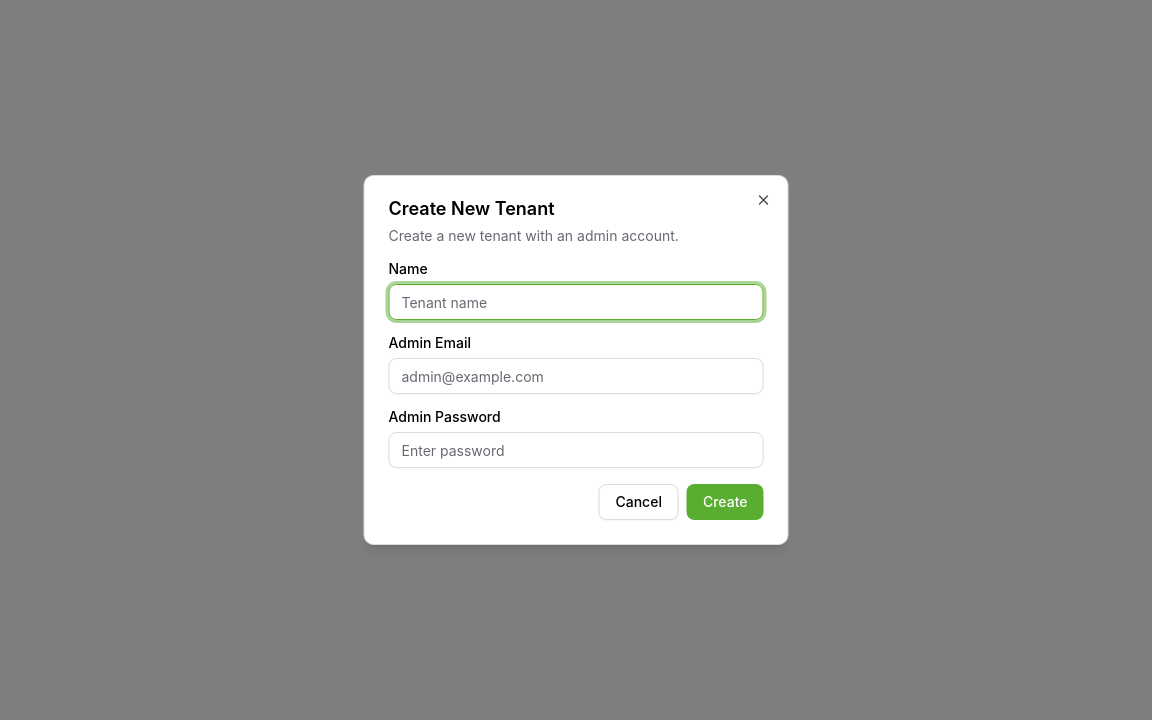
Test: TenantForm › should validate password length
This screenshot has width=1152, height=720.
Fill form with short password
Type "Test Tenant" into the field with test id "field-name" at point(576, 302), box [388,284,764,320]
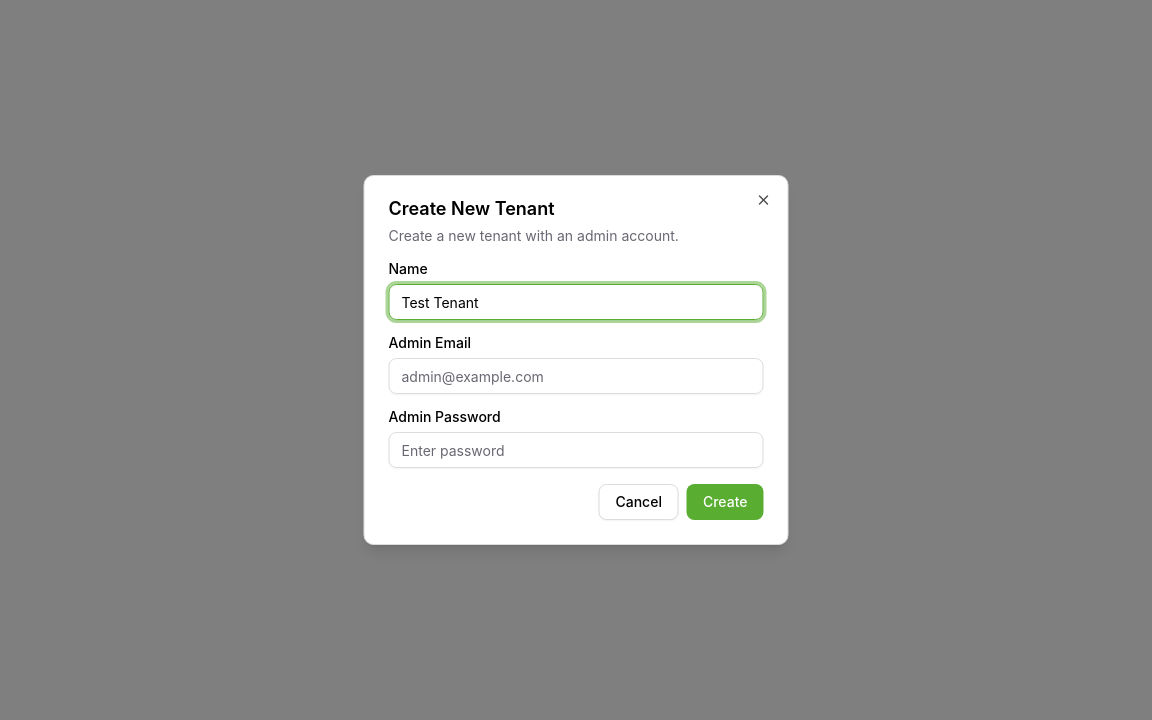
Type "admin@test.com" into the field with test id "field-adminEmailAddress" at point(576, 376), box [388,358,764,394]
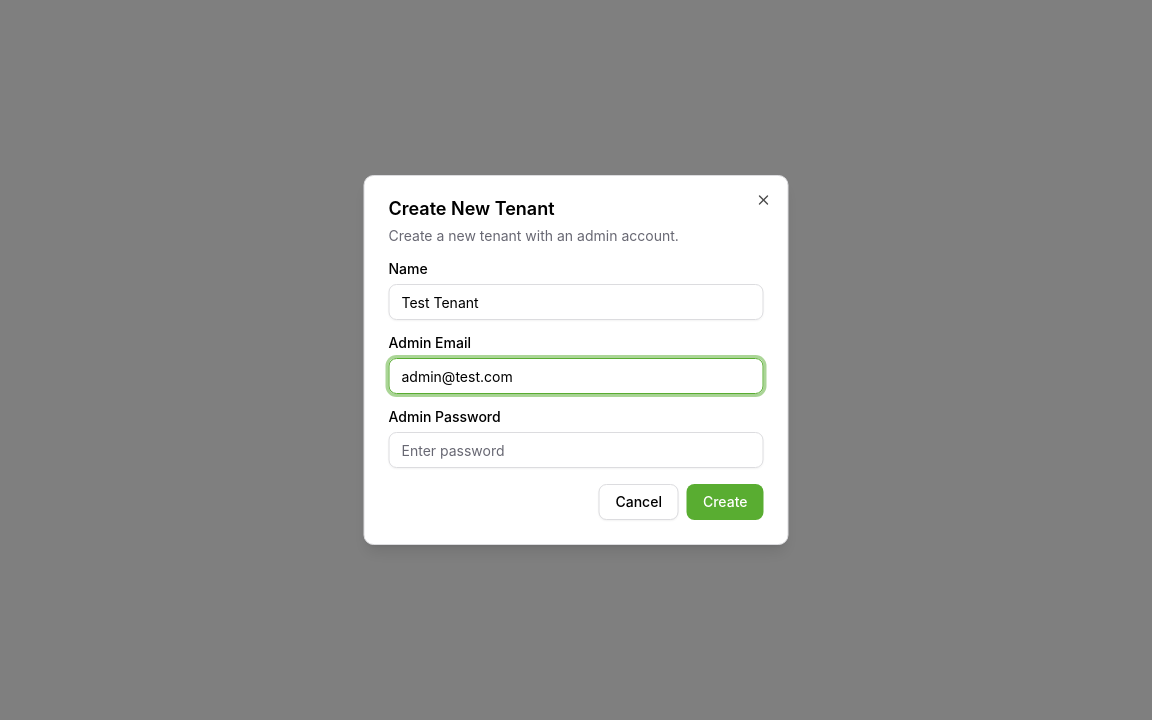
Type "123" into the password field with test id "field-adminPassword" at point(576, 450), box [388,432,764,468]
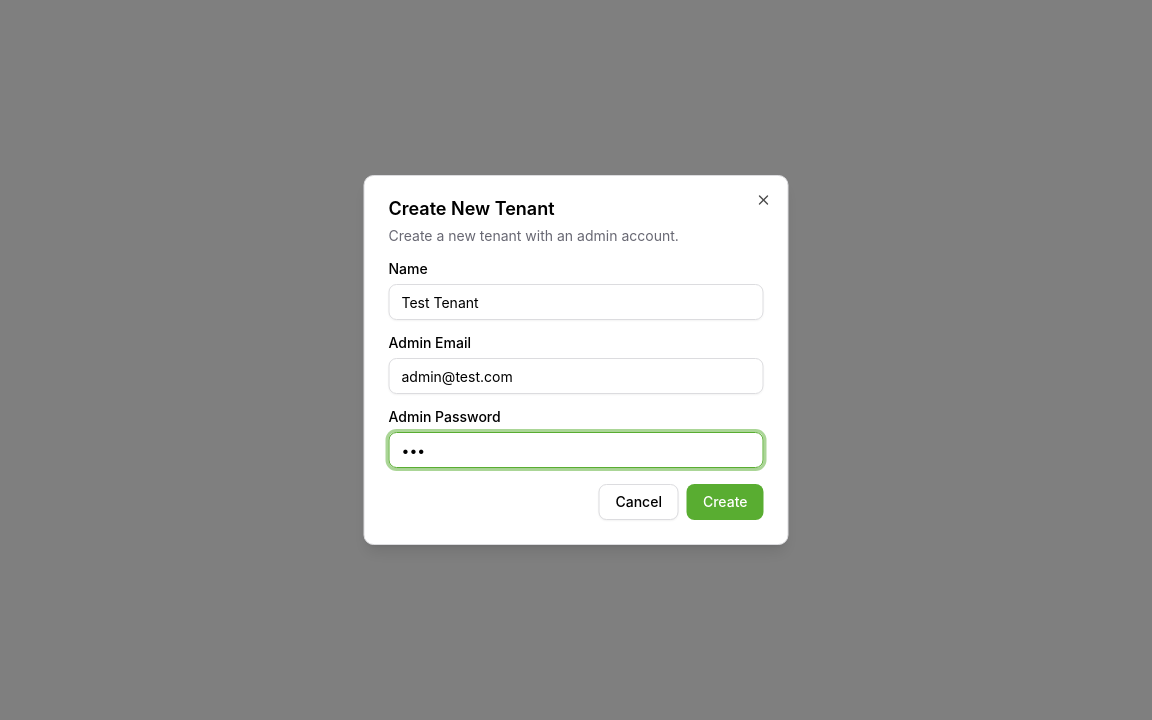
Submit form
Click the button with test id "btn-submit" at point(725, 502), box [687,484,764,520]
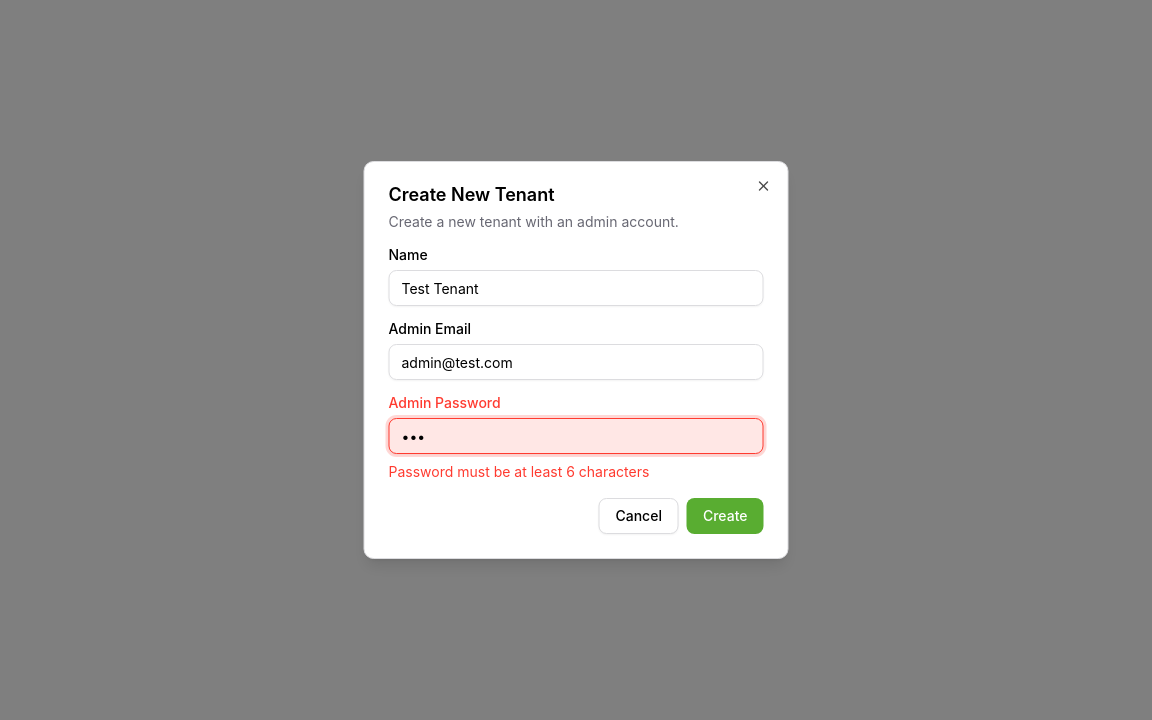
Check: the text "Password must be at least 6 characters" is shown, box [388,463,649,480]
